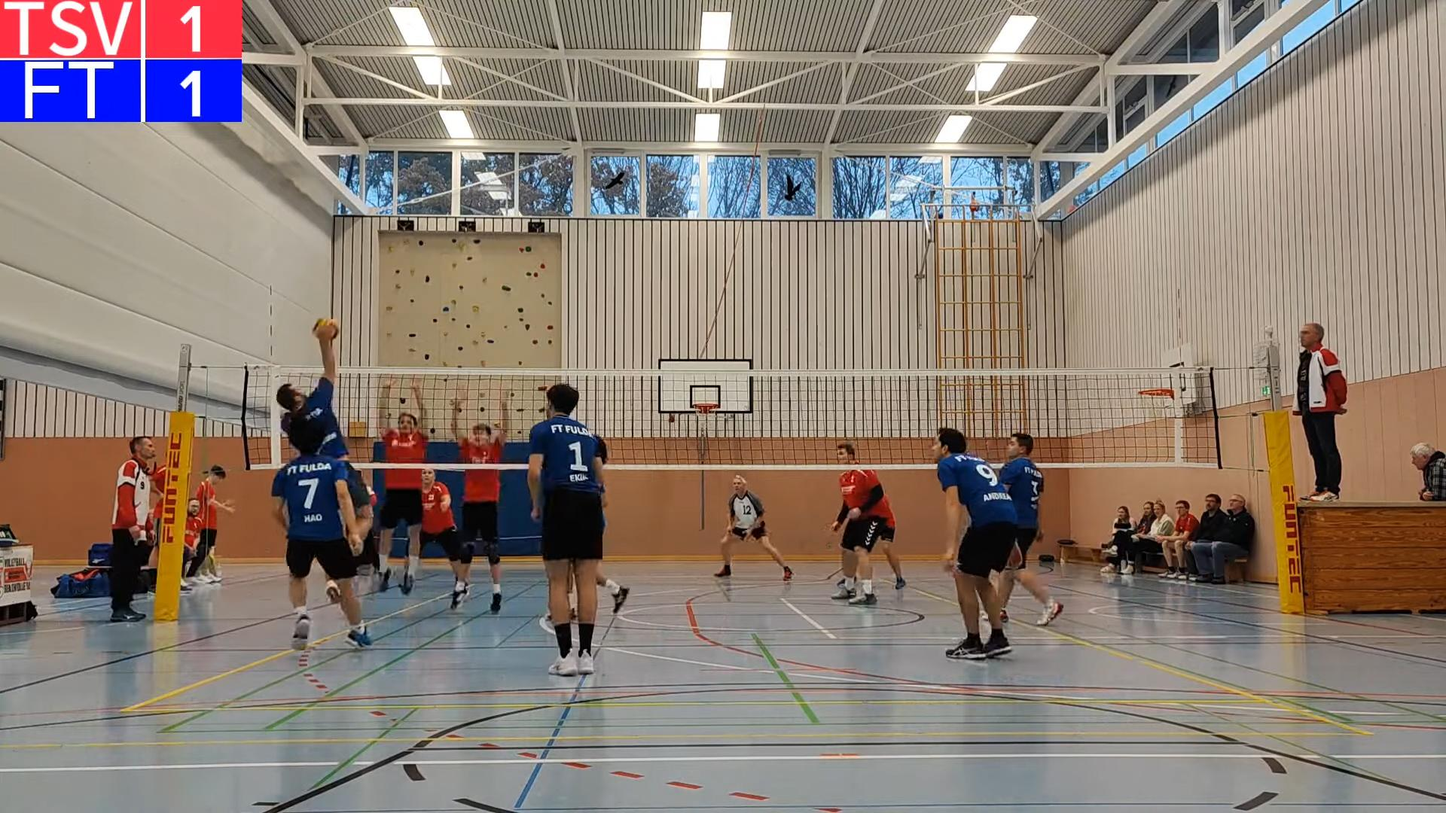Attack: (270, 337, 374, 558)
Block: (370, 364, 430, 600), (449, 380, 509, 612)
Player: (272, 416, 371, 649), (528, 385, 602, 675), (933, 428, 1017, 659), (998, 433, 1063, 625), (831, 468, 894, 604), (715, 474, 792, 580), (422, 470, 472, 607), (878, 519, 906, 589), (596, 562, 630, 614)
ball: (312, 317, 340, 338)
